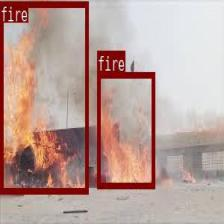fire: (0, 0, 88, 193), (97, 72, 154, 188)
